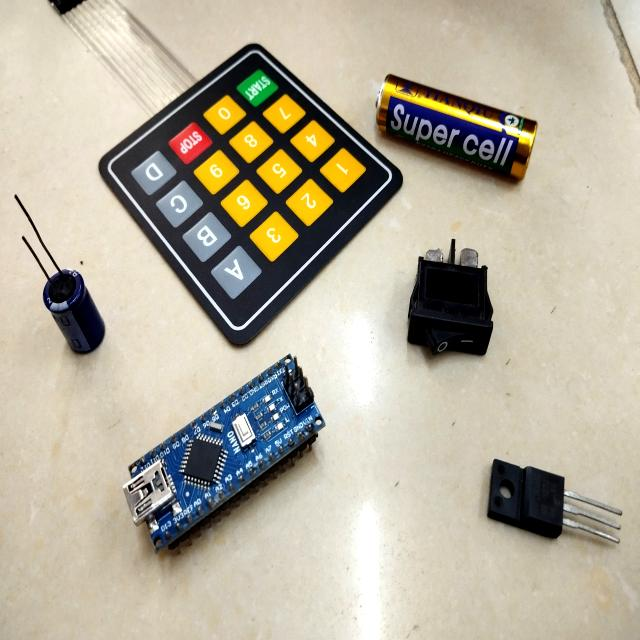capacitor: (43, 270, 105, 354)
